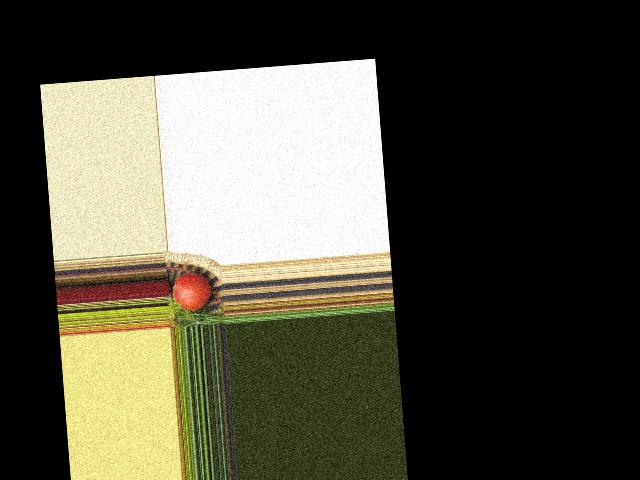tomato: (171, 271, 212, 313)
